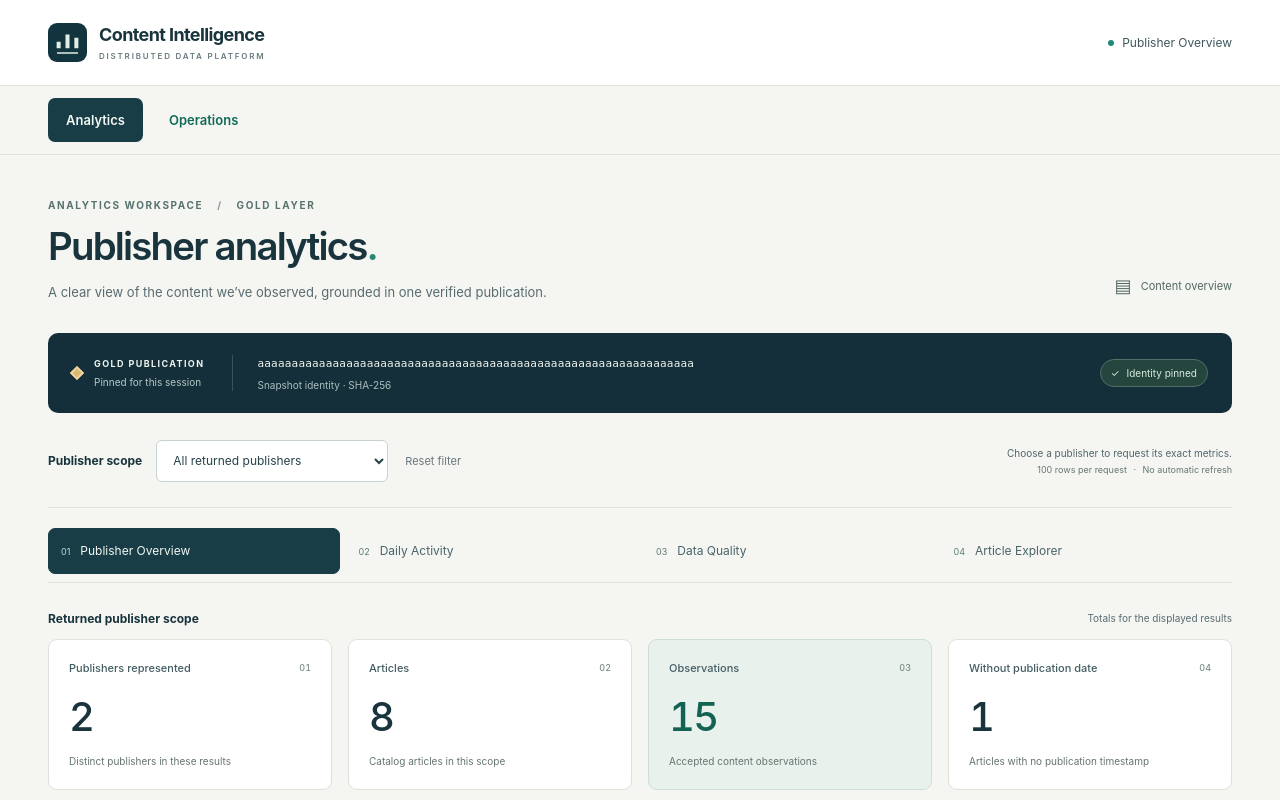
Scenario: publisher dashboard › refuses publication changes without combining or switching data
Step 1. Select "alpha" in the dropdown labelled "Publisher scope" → (272, 461), box [156,440,388,482]
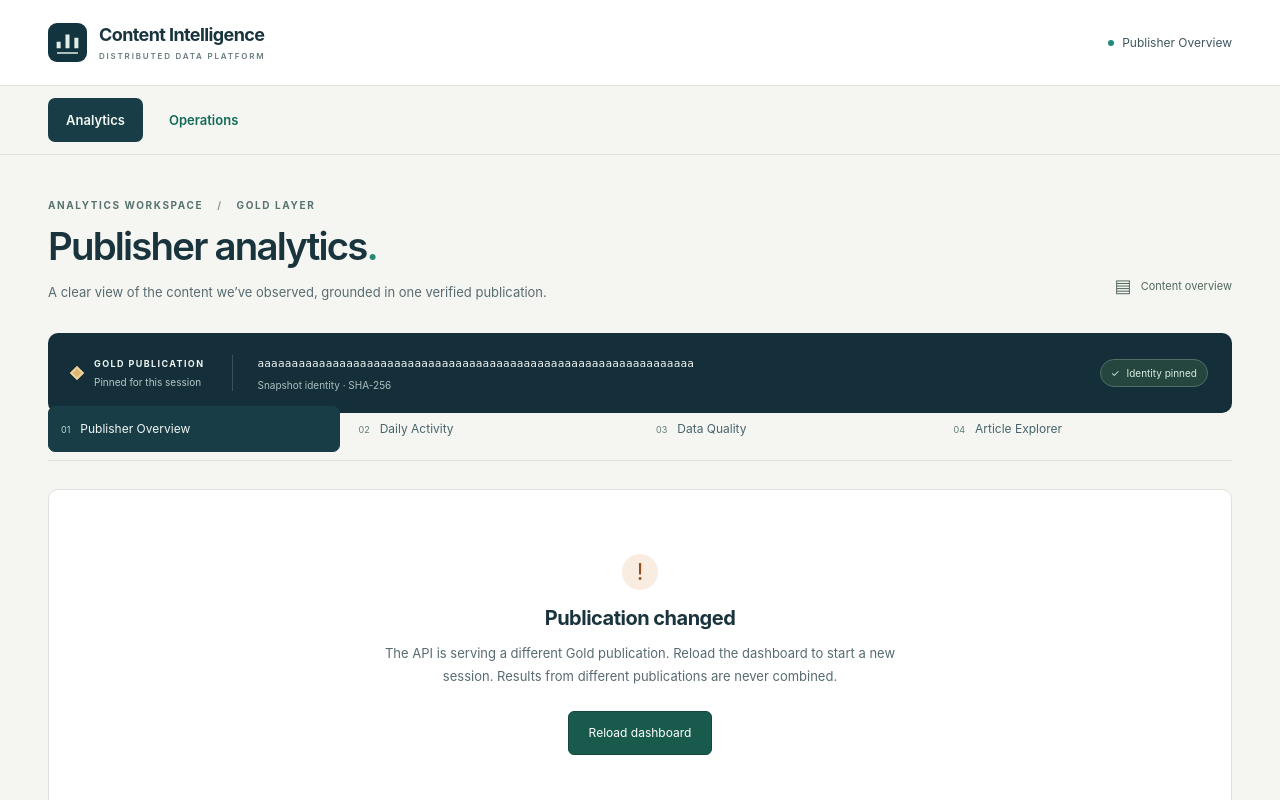
Now the heading "Publication changed" is shown, box [545,606,735,630]
Now the text "Publishers represented" is gone
Now the button "Reload dashboard" is shown, box [568,711,712,755]
